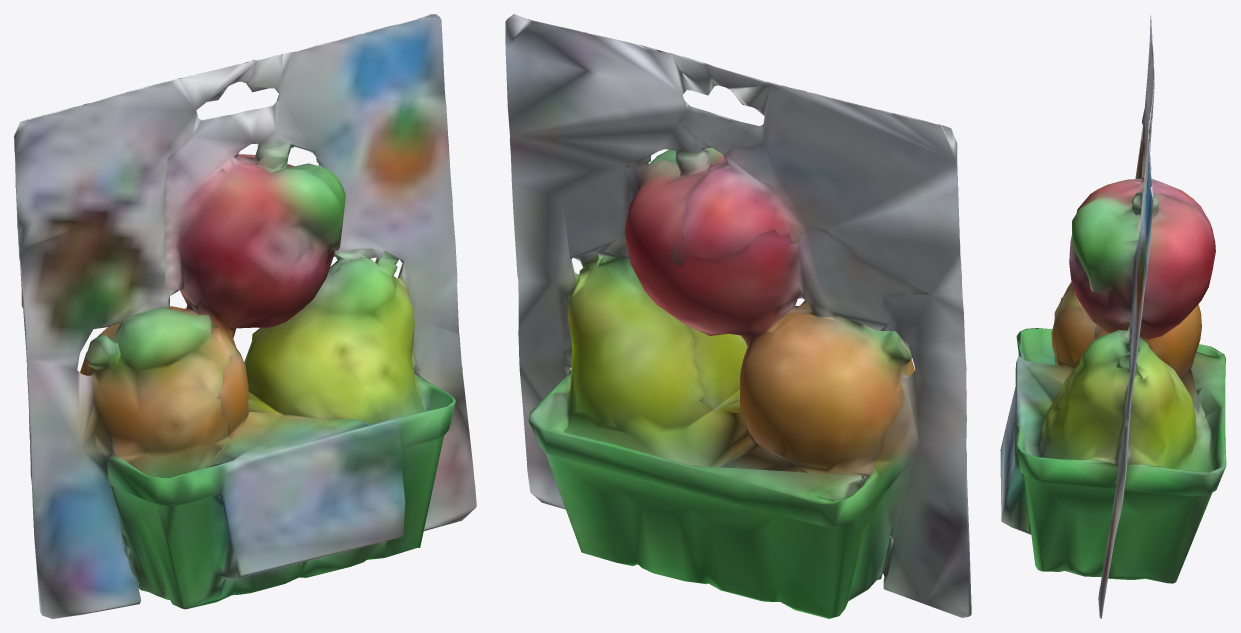
Rendered from Fruity_Friends-medium.glb.
3 views of the same model, side by side, from view 1: azimuth 30°, elevation 25°; view 2: azimuth 150°, elevation 25°; view 3: azimuth 270°, elevation 25° (orthographic). The views are drawn at different scales.
Parts seen in each view (by area): view 1: Fruity_Friends; view 2: Fruity_Friends; view 3: Fruity_Friends.
Part boxes in pixels (x1,y1,x2,y2): Fruity_Friends: (14,14,476,618); Fruity_Friends: (505,14,971,618); Fruity_Friends: (1000,15,1226,618).
Bounding box in the file's own units: 0.1597 × 0.1724 × 0.0809.
1 material, 1 textured.
